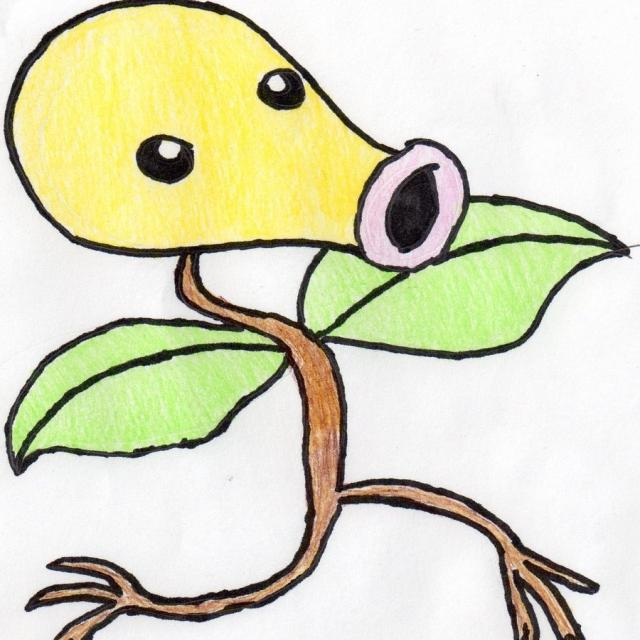Bellsprout: (12, 2, 472, 521)
